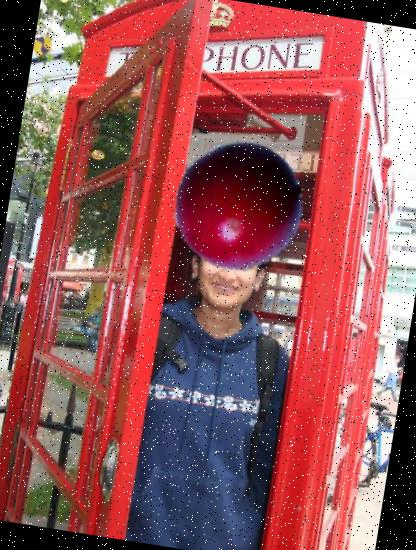Tamarillo: (164, 132, 314, 282)
